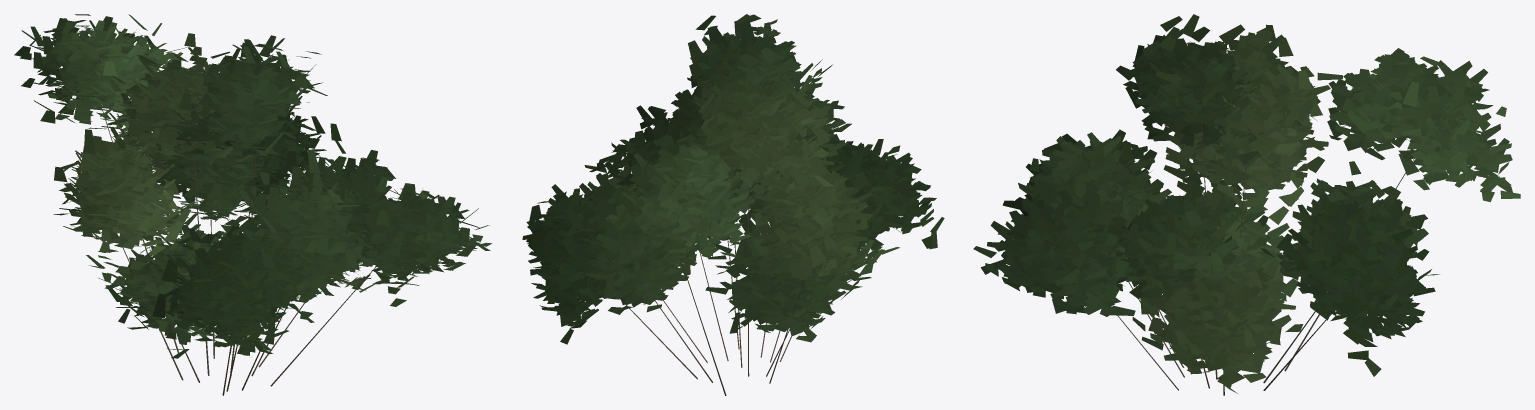
File: wood.glb
3 renders of one model, left to right at view 1: azimuth 30°, elevation 25°; view 2: azimuth 150°, elevation 25°; view 3: azimuth 270°, elevation 25°, orthographic. The views are drawn at different scales.
Visible parts, largest first — view 1: wood_lod0_1, wood_lod0_0; view 2: wood_lod0_1, wood_lod0_0; view 3: wood_lod0_1, wood_lod0_0.
Boxes of the visible parts, x1,y1,x2,y2 form: wood_lod0_1: (14, 14, 492, 358); wood_lod0_0: (102, 108, 375, 395); wood_lod0_1: (522, 14, 944, 344); wood_lod0_0: (620, 172, 804, 395); wood_lod0_1: (973, 14, 1520, 393); wood_lod0_0: (1117, 123, 1414, 395).
Size of what is drawn, in the model's own units: 5.65 by 5.74 by 7.99.
Materials: 2 (1 with a texture image).
